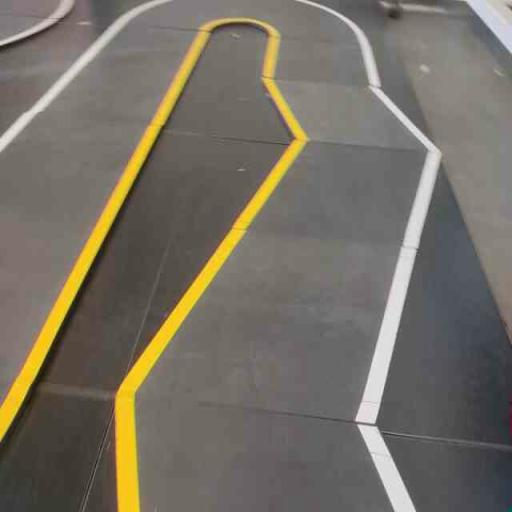crossleft: (106, 387, 422, 511)
